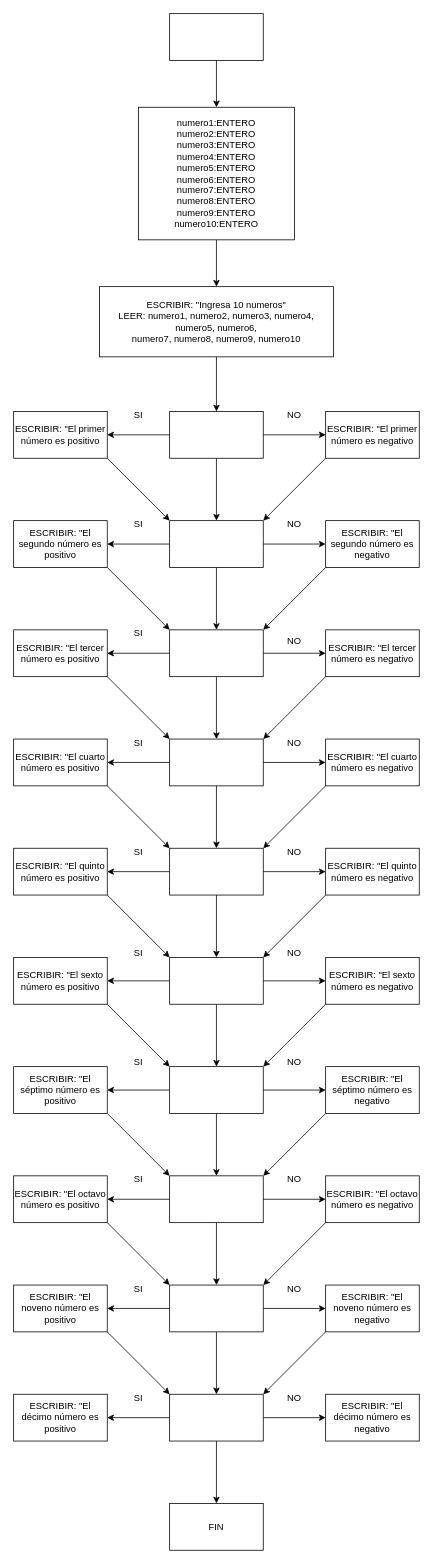
Some shapes in this 433 by 1564 pixel diagram are drawn without their labels. The centre of each missing label's shape, as x and y in pixels:
INICIO: the point at 216,36
numero10>=0: the point at 216,1417
numero1>=0: the point at 216,434
numero2>=0: the point at 216,543
numero3>=0: the point at 216,653
numero4>=0: the point at 216,762
numero5>=0: the point at 216,871
numero6>=0: the point at 216,980
numero7>=0: the point at 216,1089
numero8>=0: the point at 216,1199
numero9>=0: the point at 216,1308
